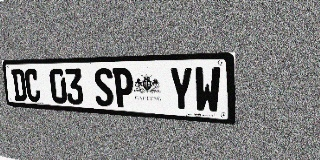0: (49, 68, 67, 104)
3: (65, 68, 84, 105)
C: (24, 69, 41, 102)
D: (11, 69, 27, 101)
P: (112, 68, 134, 108)
S: (93, 68, 114, 107)
W: (194, 66, 221, 114)
Y: (169, 67, 194, 112)
